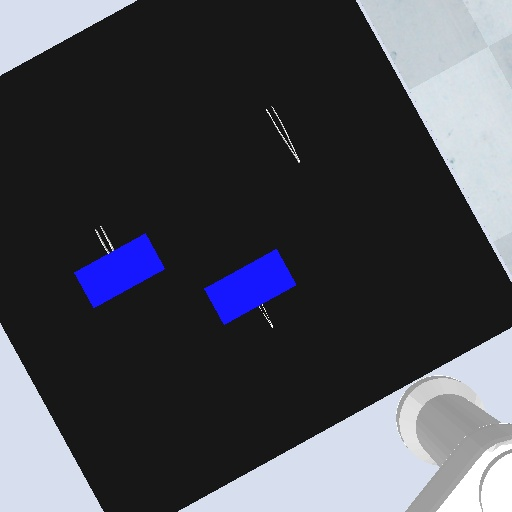pinza: (263, 103, 303, 166), (92, 223, 117, 255), (257, 302, 276, 331)
